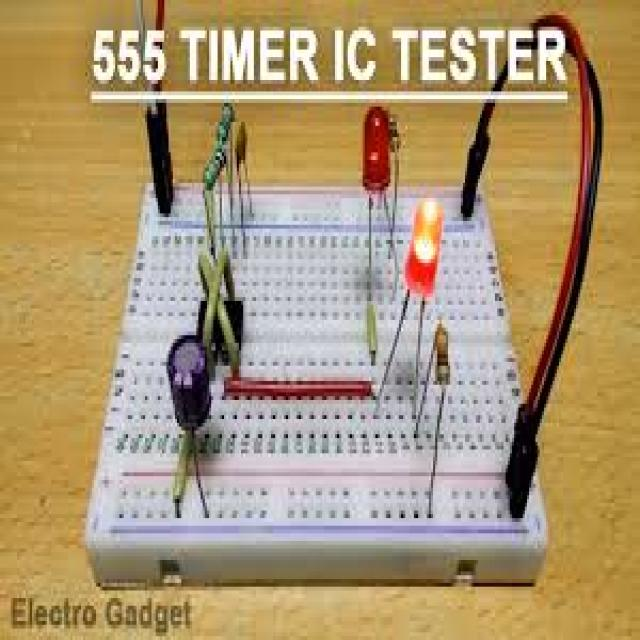capacitor: (434, 313, 451, 390), (215, 98, 238, 145), (202, 146, 226, 185)
